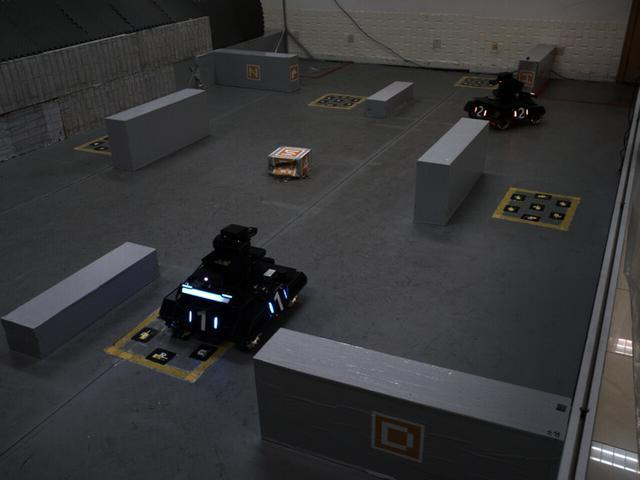armor: (182, 305, 223, 339), (263, 281, 293, 321), (507, 103, 533, 124), (471, 101, 491, 119)
